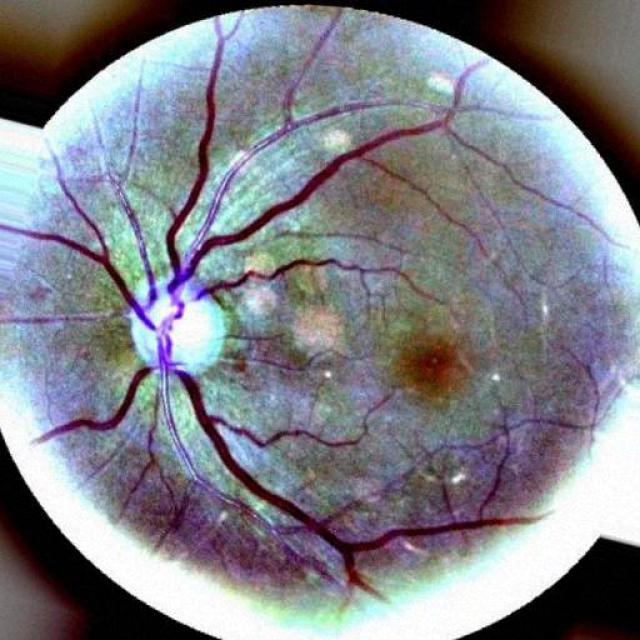Macula: (394, 319, 476, 414)
Nerves: (140, 108, 527, 596)
Optic Disk: (115, 242, 264, 402)
